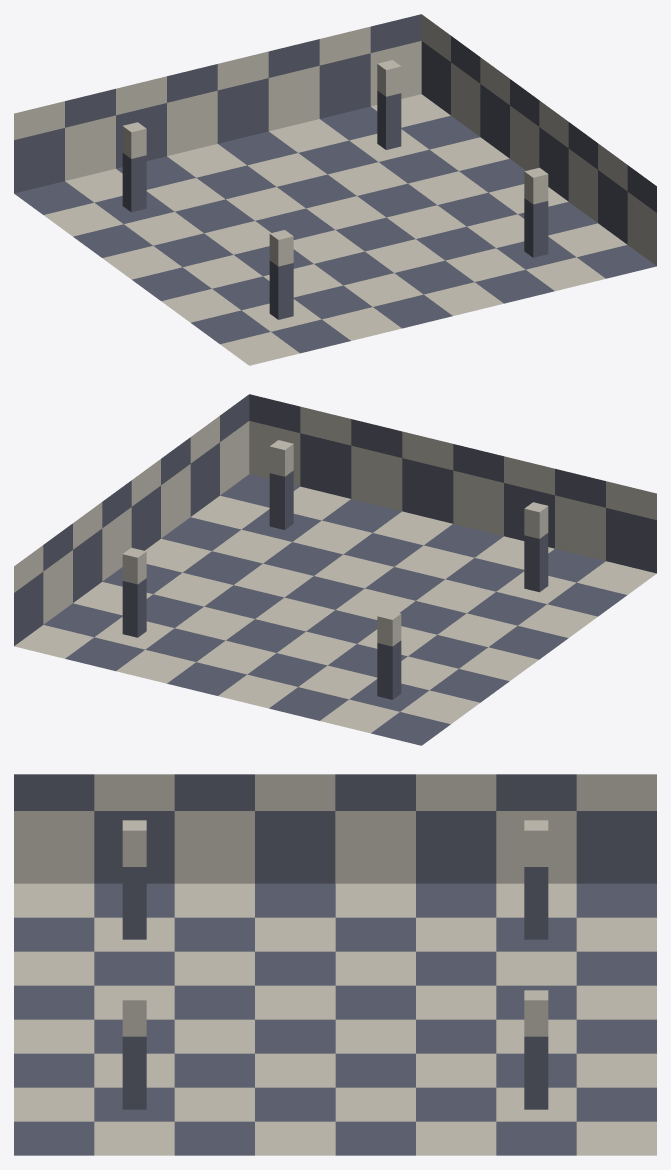
The model's file is room.gltf.
3 renders of one model, top to bottom at view 1: azimuth 30°, elevation 25°; view 2: azimuth 150°, elevation 25°; view 3: azimuth 270°, elevation 25°, orthographic. The views are drawn at different scales.
Visible parts, largest first — view 1: Room; view 2: Room; view 3: Room.
Boxes of the visible parts, box(x1,y1,x2,y2) form: Room: box(14, 14, 656, 365); Room: box(14, 394, 656, 745); Room: box(14, 774, 656, 1155).
Size of the model in its own units: 16 by 3 by 16.
1 material, 1 textured.
